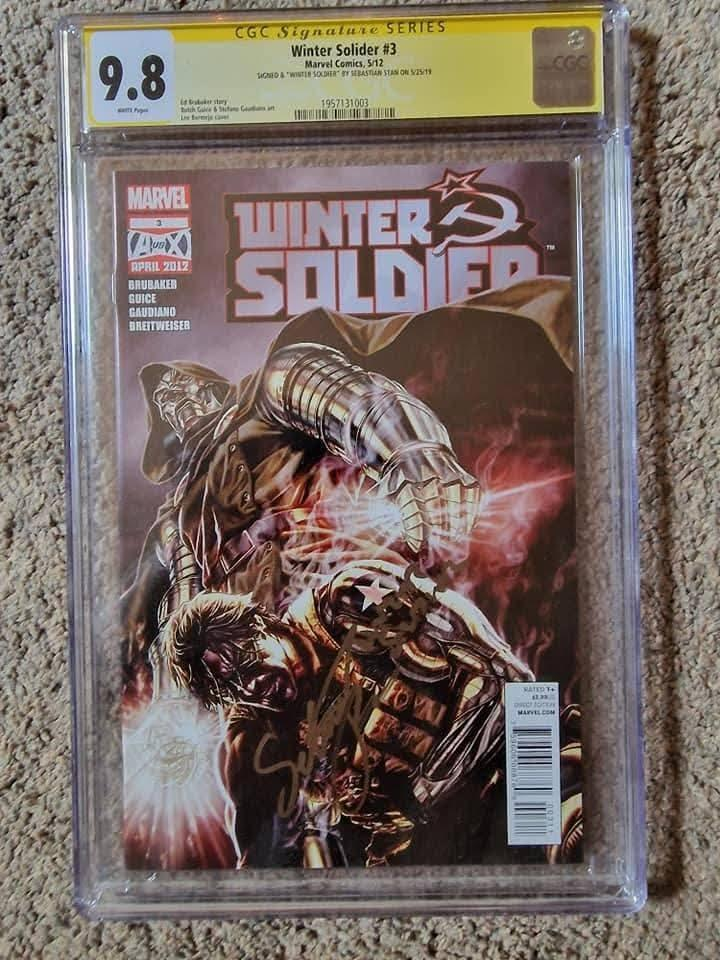comic: (113, 162, 583, 869)
